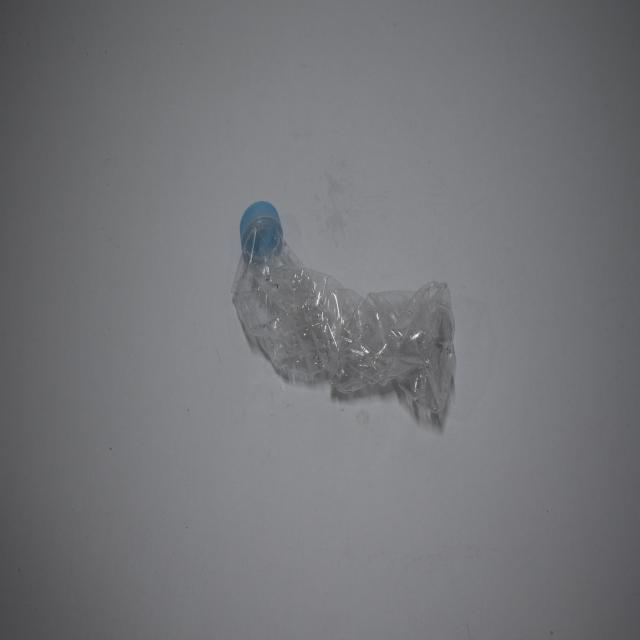bottle: (202, 187, 476, 444)
